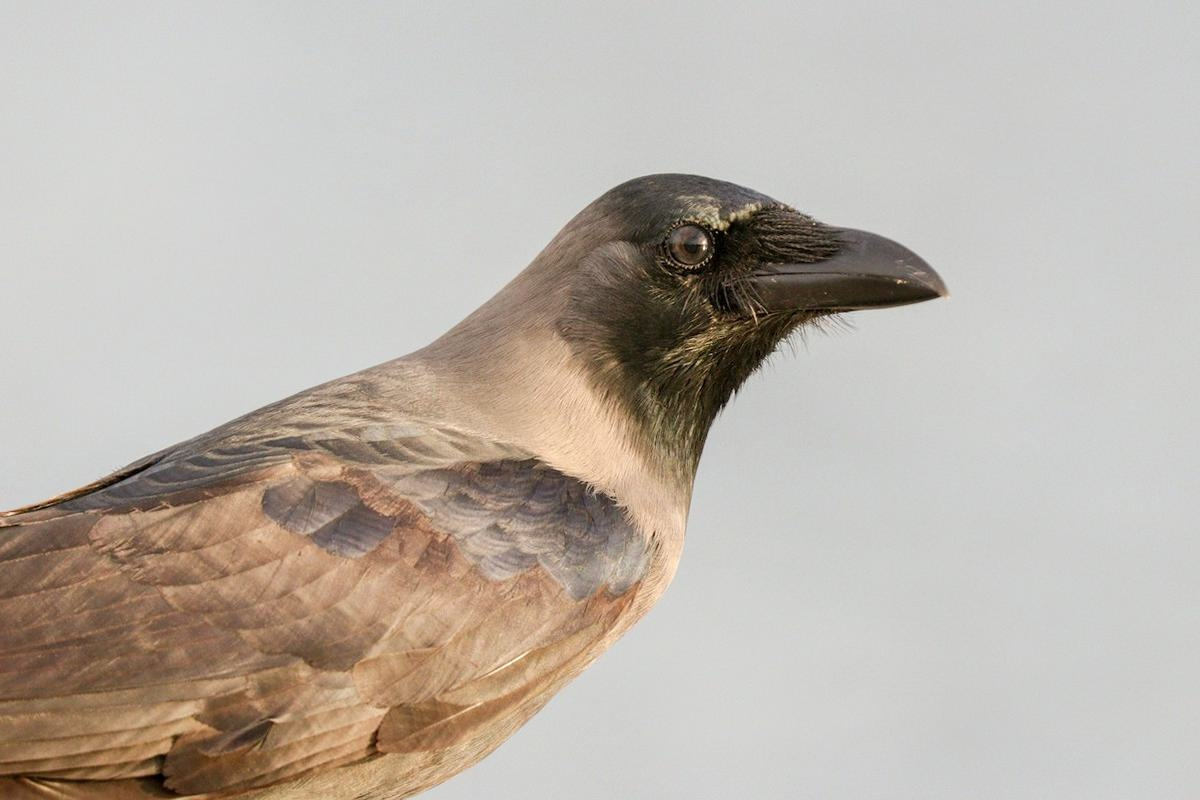crow: (1, 144, 954, 800)
